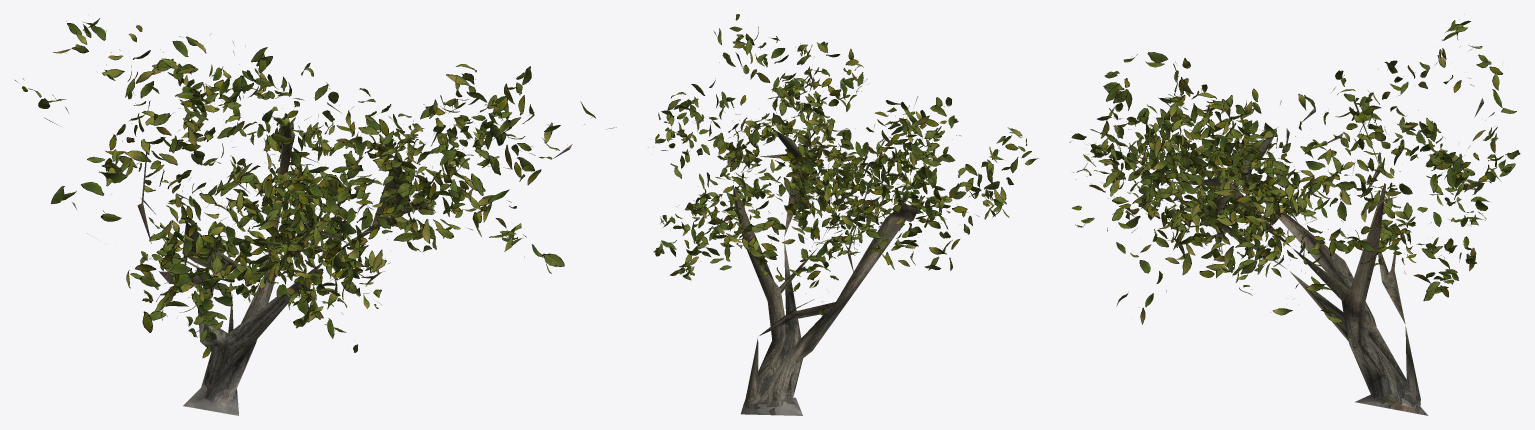
Rendered from tree-far.glb.
The picture shows the model from 3 angles, left to right: view 1: azimuth 30°, elevation 25°; view 2: azimuth 150°, elevation 25°; view 3: azimuth 270°, elevation 25°; orthographic projection. The views are drawn at different scales.
Visible parts, largest first — view 1: island_tree_02_LOD0; view 2: island_tree_02_LOD0; view 3: island_tree_02_LOD0.
Part boxes in pixels (box(x1,y1,x2,y2)): island_tree_02_LOD0: box(14, 18, 616, 415); island_tree_02_LOD0: box(648, 14, 1038, 415); island_tree_02_LOD0: box(1069, 14, 1520, 415).
Bounding box in the file's own units: 4.06 × 3.35 × 4.01.
Materials: 3 (3 with a texture image).
